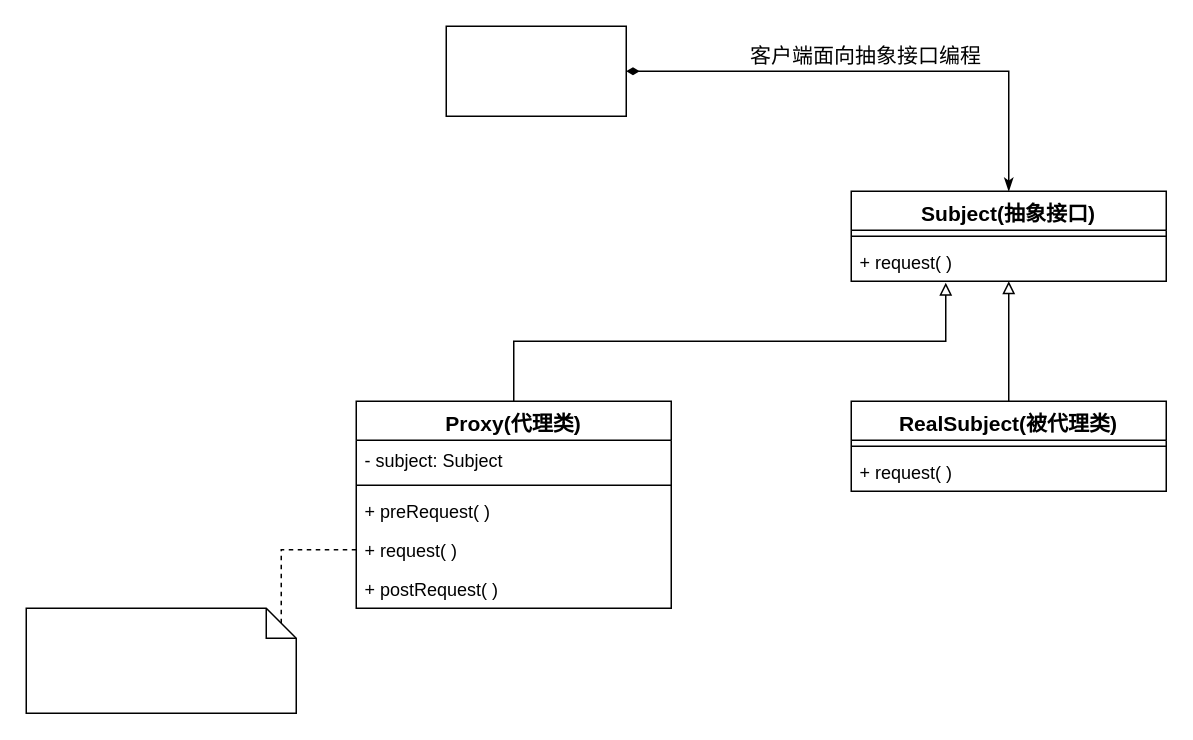
The diagram is 1193 pixels wide and 740 high, and some of its shapes have lost their labels. Each missing label, with the centre of its shape:
Client: point (535, 70)
preRequest(); subject.request(); postRequest();: point (160, 660)
